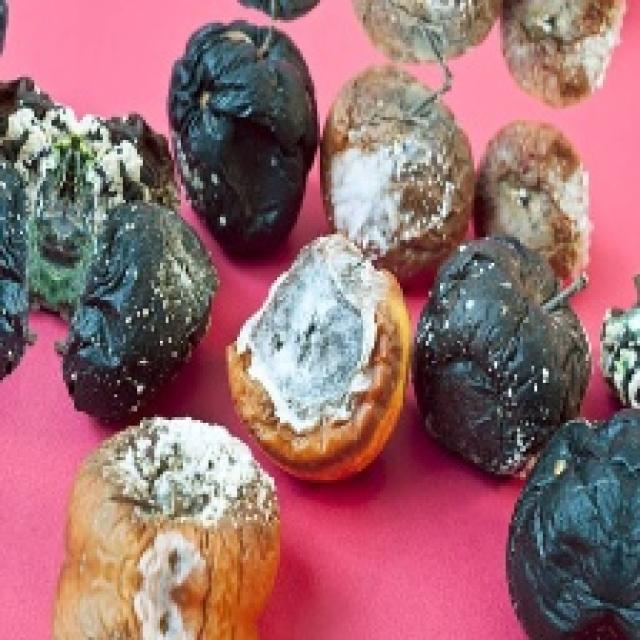rotten_apple: (239, 243, 409, 478), (73, 422, 282, 608), (419, 237, 582, 467), (174, 24, 316, 254), (70, 208, 216, 416), (323, 72, 474, 254), (515, 427, 640, 640), (506, 0, 623, 100), (487, 123, 586, 239), (357, 0, 503, 60)
